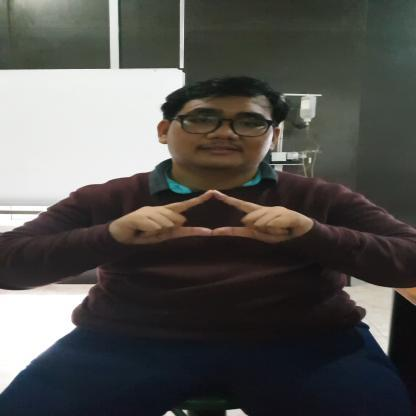A: (113, 188, 311, 246)
